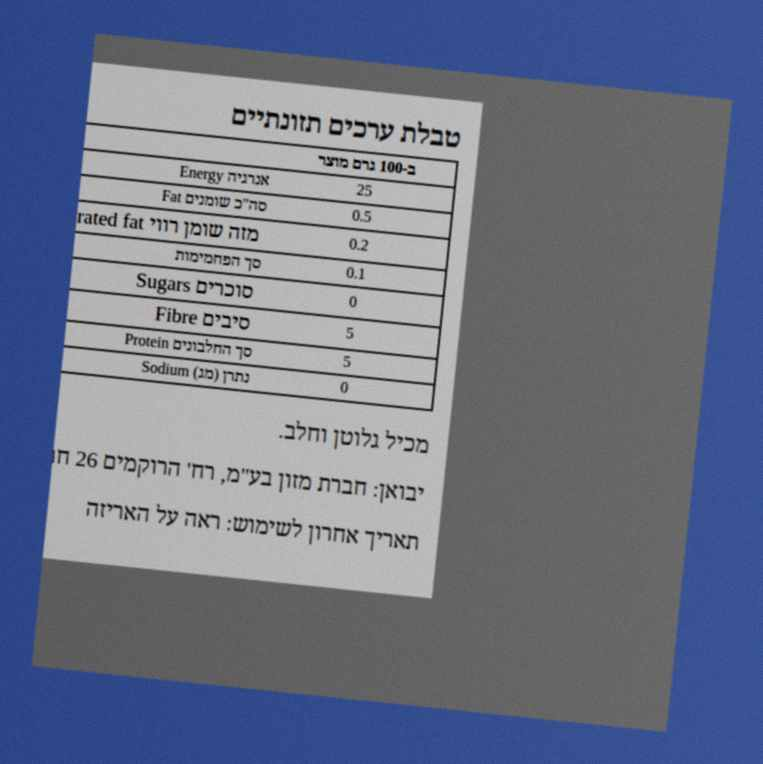carbs: (343, 262, 369, 287)
energy: (353, 179, 375, 203)
fat: (349, 205, 375, 229)
protein: (340, 351, 354, 374)
